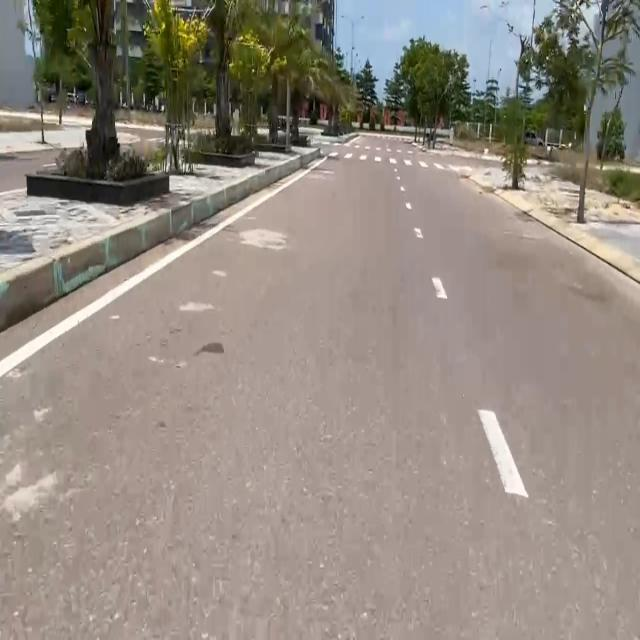walk-crossing: (330, 147, 470, 176)
